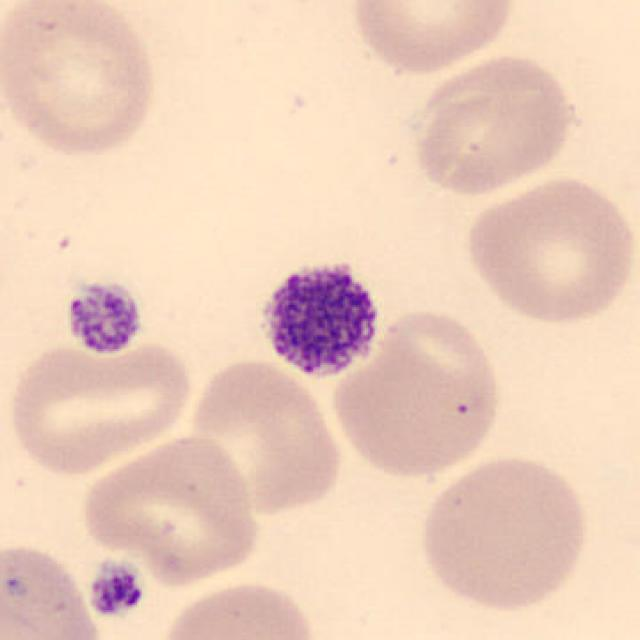Platelets: (249, 250, 389, 388), (60, 277, 146, 358), (86, 557, 148, 619)
RBC: (327, 307, 507, 483), (76, 430, 265, 589), (412, 452, 594, 616), (458, 171, 636, 328), (4, 336, 198, 479), (183, 354, 347, 518), (0, 0, 162, 160), (409, 49, 579, 200), (347, 0, 521, 76), (0, 537, 106, 640), (154, 576, 321, 640)
